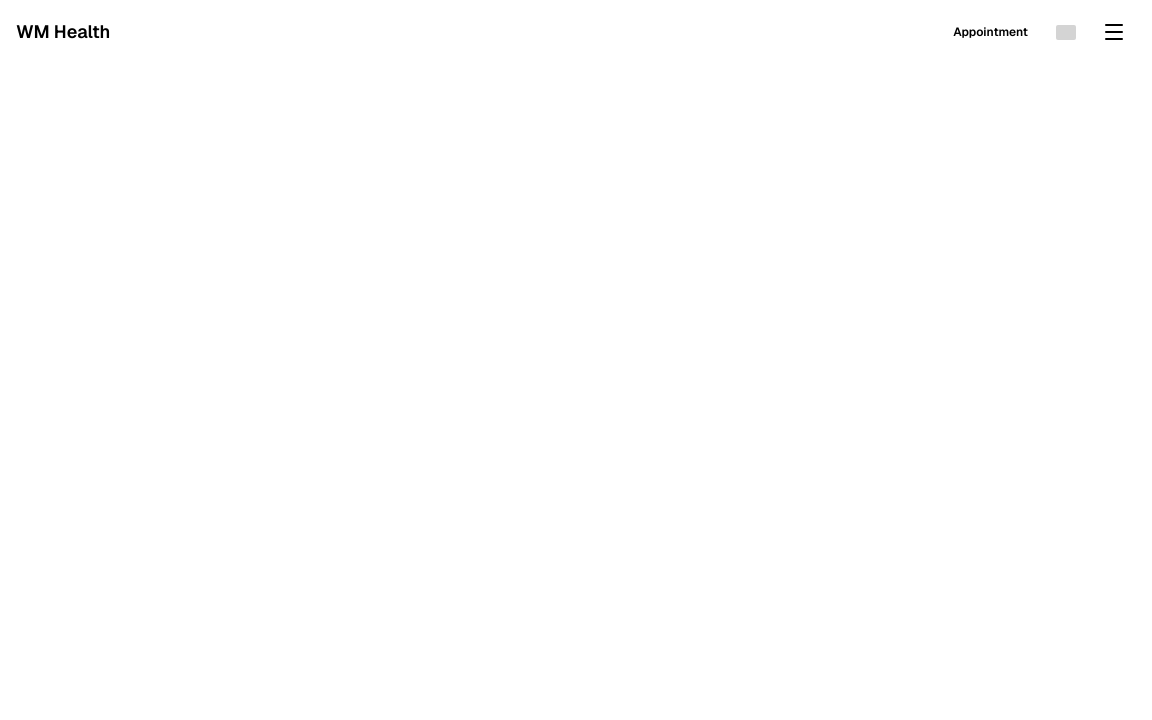
Test case: SiteHeader — mobil menü (lg altı) › panel açılınca menü öğeleri, akordeon, dil listesi ve giriş linki görünür; Esc kapatır ve odak düğmeye döner
Click the button named "Open menu" at (1114, 32), box [1092,10,1136,54]
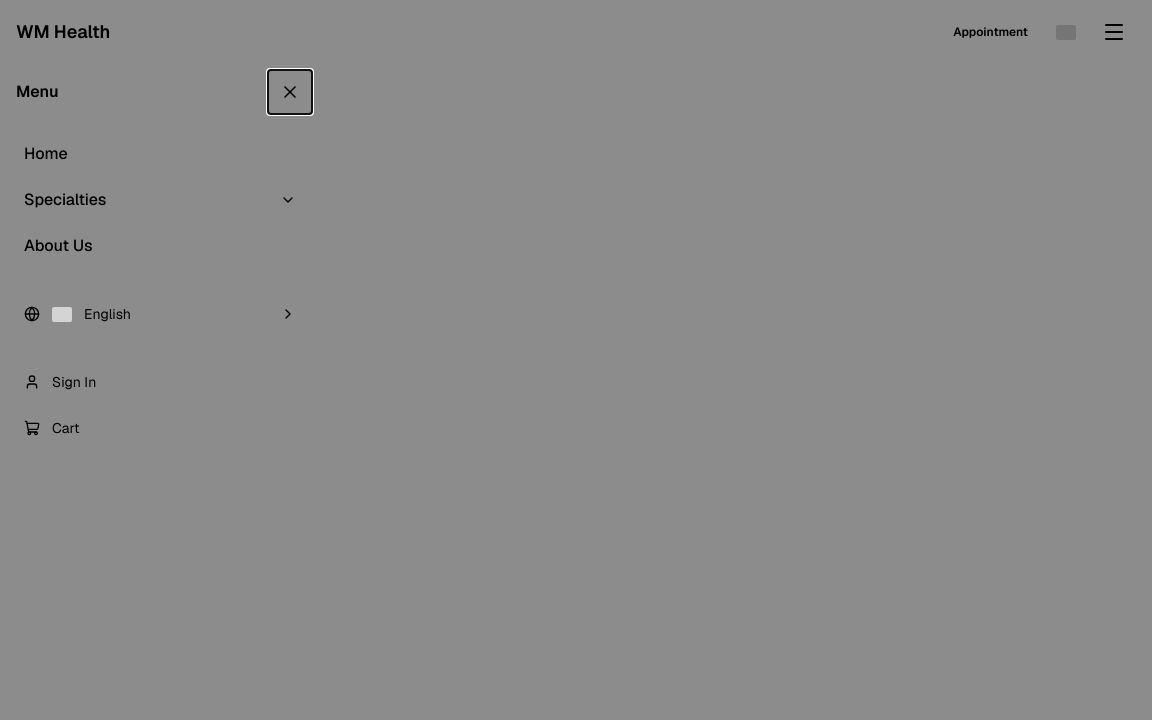
Now the button named "Open menu" next to "Appointment" is expanded, box [1092,10,1136,54]
Now the link "Sign In" is shown, box [24,373,96,391]
Click the button "Specialties" at (65, 200), box [12,178,308,222]
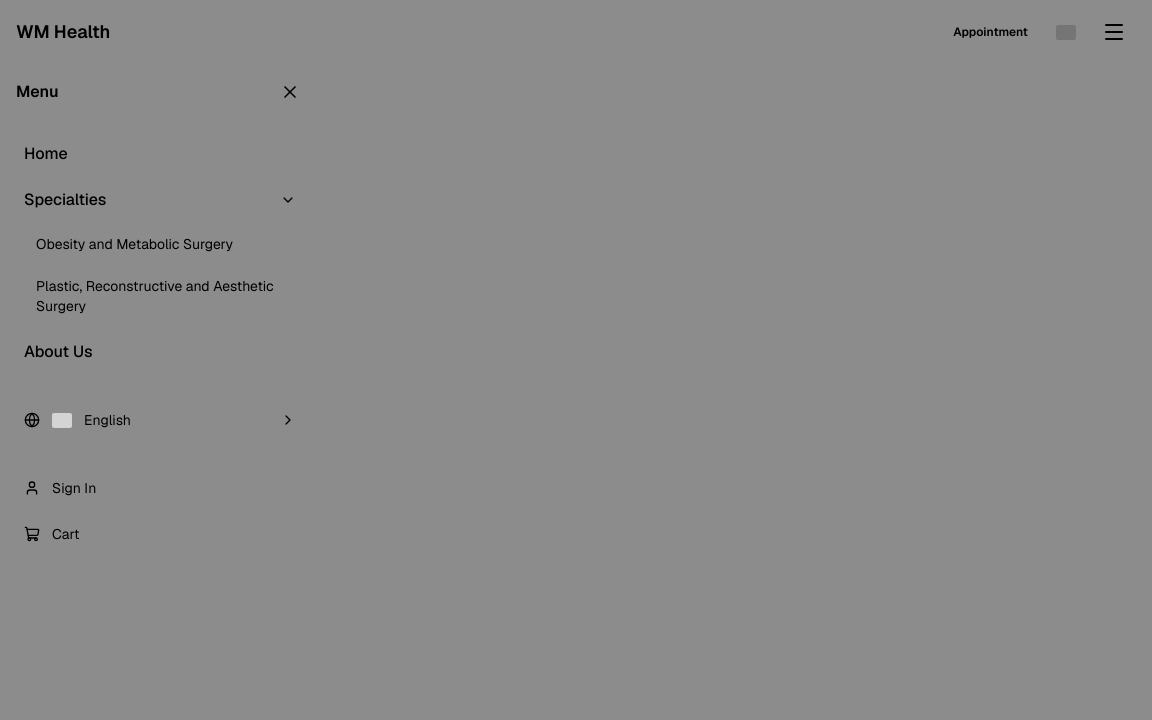
Press Escape
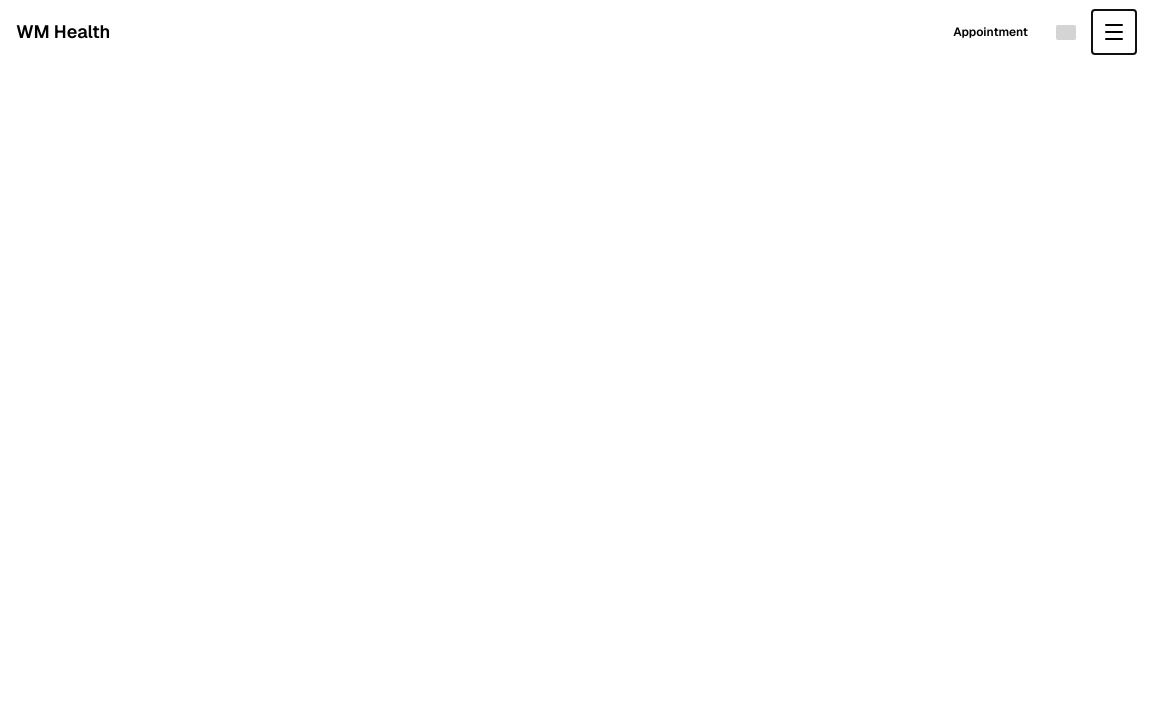
Now the dialog is gone
Now the button named "Open menu" is collapsed, box [1092,10,1136,54]
